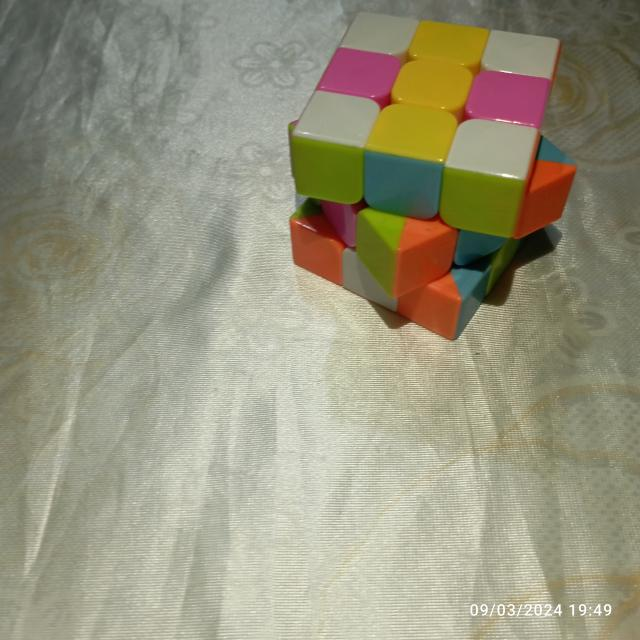Rub: (282, 9, 580, 343)
